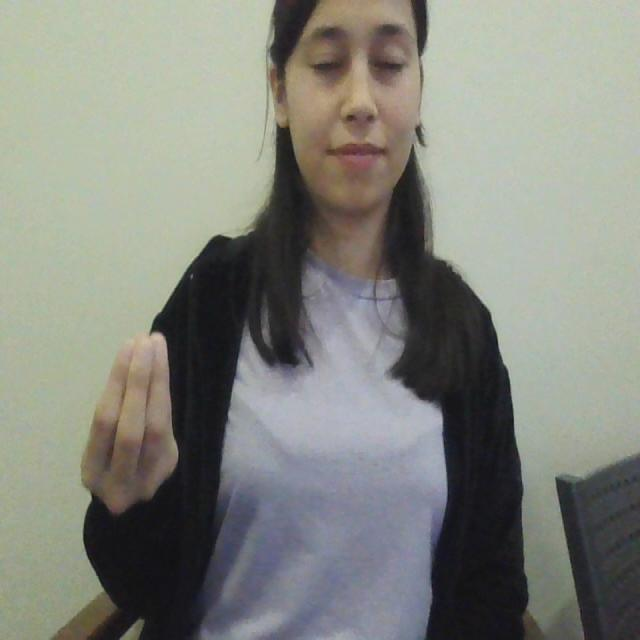iyi: (77, 326, 185, 520)
